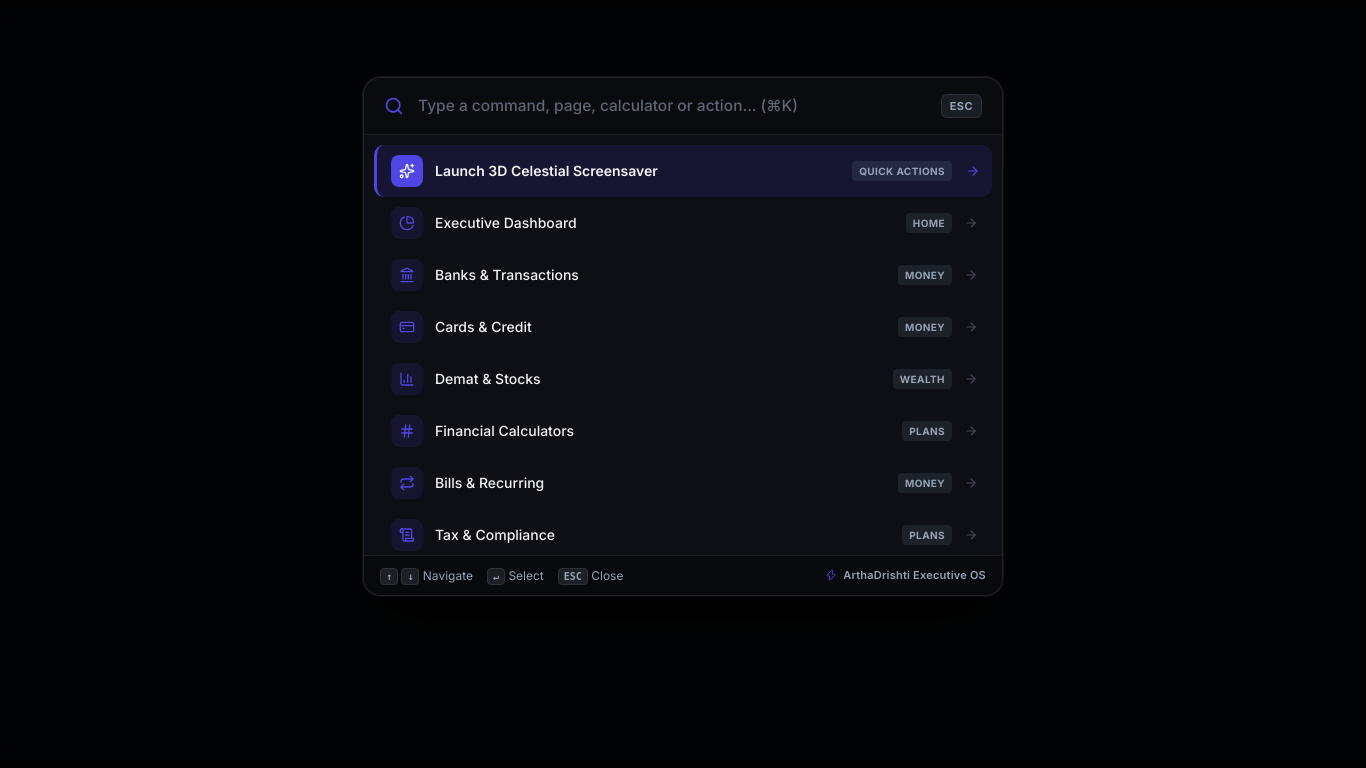
Test: Senior UI/UX Enhancements & Executive OS Features › CommandKModal Executive Command Palette › filters financial calculators when searching by tool name like 'loan'
Step 1. Type "loan" into the field with placeholder "Type a command, page, calculator or action... (⌘K)" → point(672, 106), box [416,95,929,116]
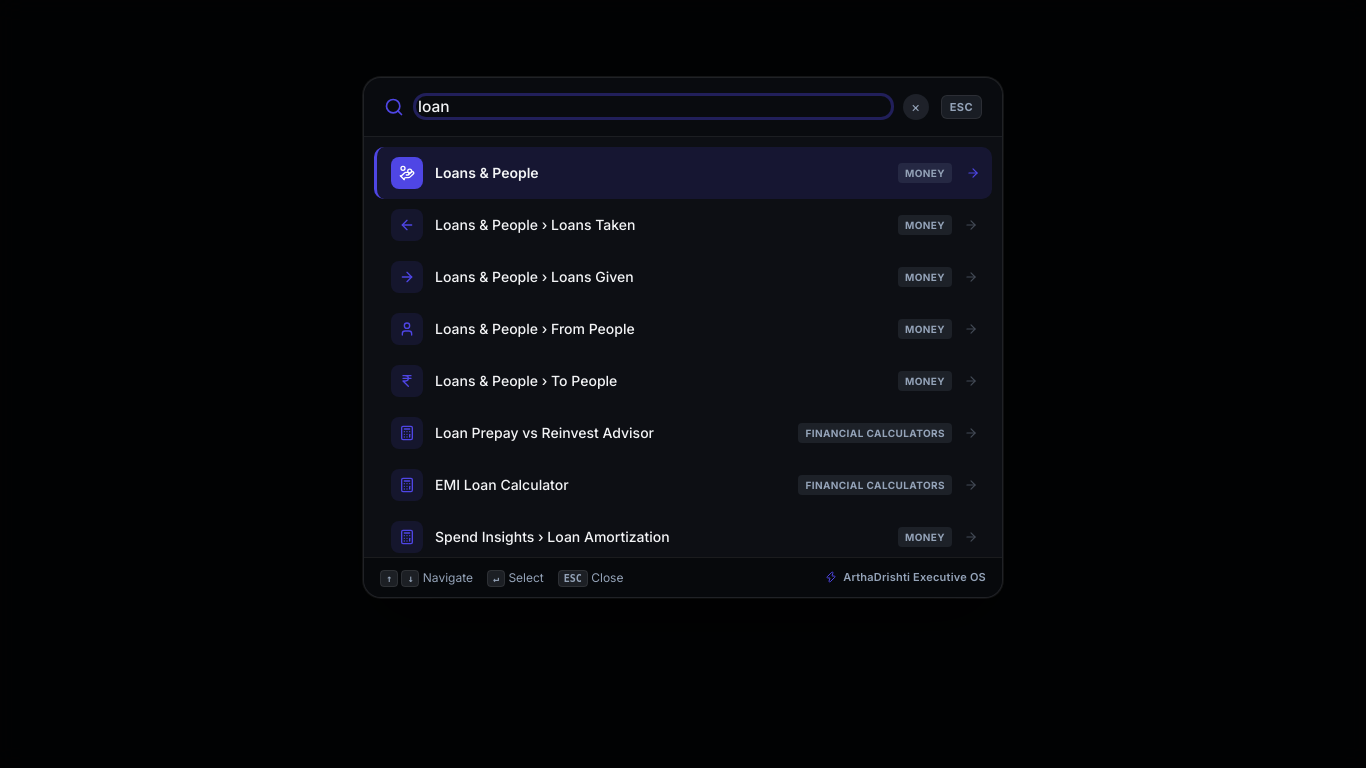
expect the text "EMI Loan Calculator" is shown: met, box [435,476,569,493]
